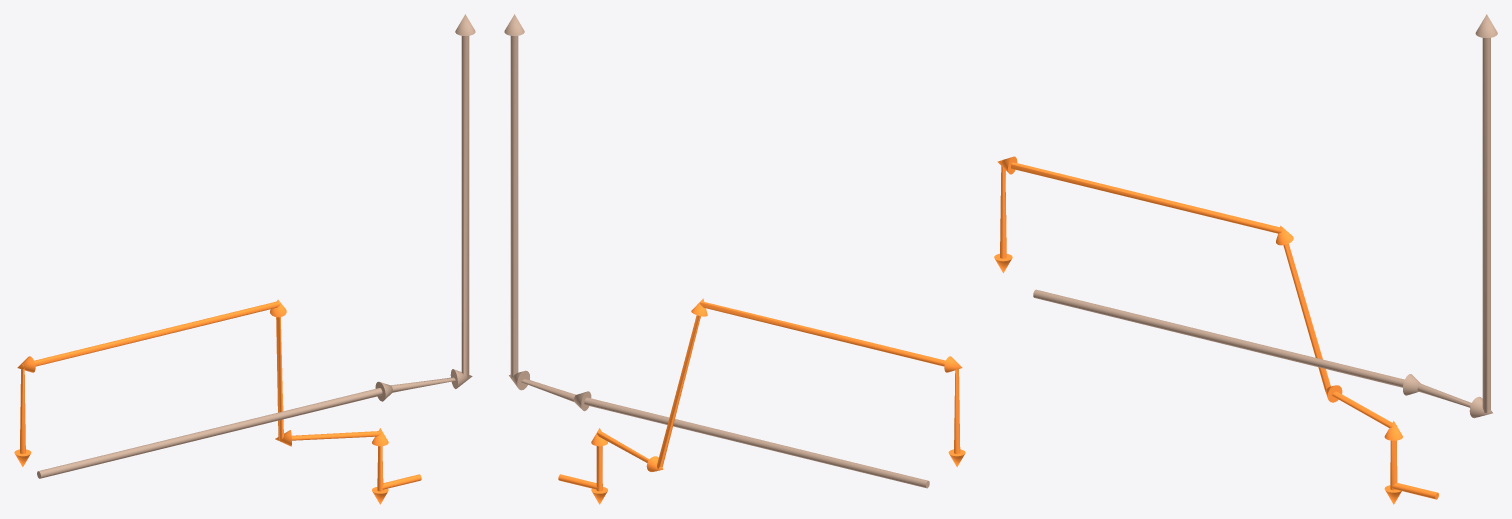
The model's file is thermal_oxidizer_flow.glb.
3 views of the same model, side by side, from view 1: azimuth 30°, elevation 25°; view 2: azimuth 150°, elevation 25°; view 3: azimuth 330°, elevation 25° (orthographic). The views are drawn at different scales.
Parts seen in each view (by area): view 1: hot_clean_gas, process_air; view 2: hot_clean_gas, process_air; view 3: hot_clean_gas, process_air.
Part boxes in pixels (x1,y1,x2,y2): hot_clean_gas: (37,14,475,478); process_air: (14,299,421,504); hot_clean_gas: (504,14,929,488); process_air: (558,298,965,504); hot_clean_gas: (1033,14,1497,418); process_air: (994,156,1438,504).
Bounding box in the file's own units: 4.04 × 3.96 × 0.4082.
